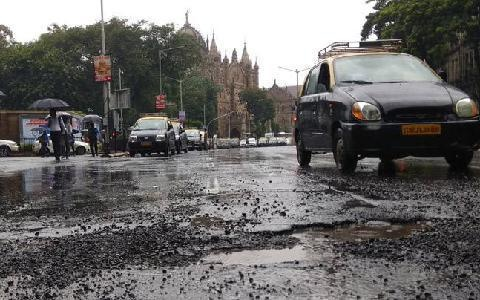pothole: (277, 215, 428, 244), (194, 238, 311, 268)
